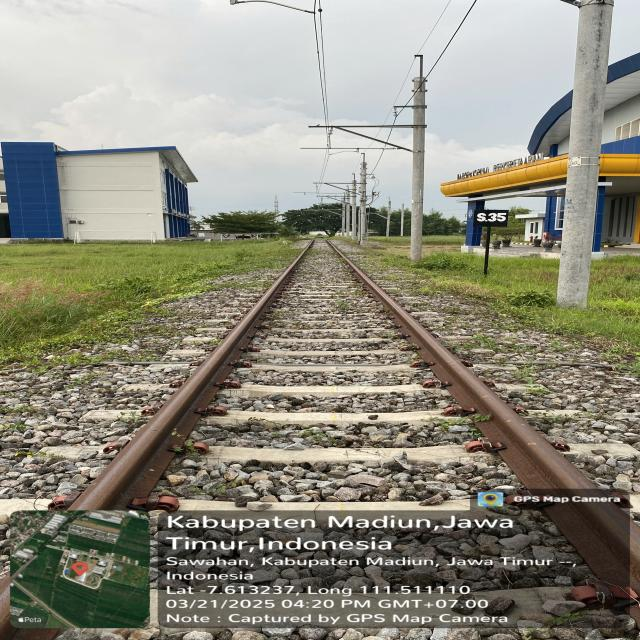rail-detection: (71, 241, 314, 510), (325, 241, 584, 485)
